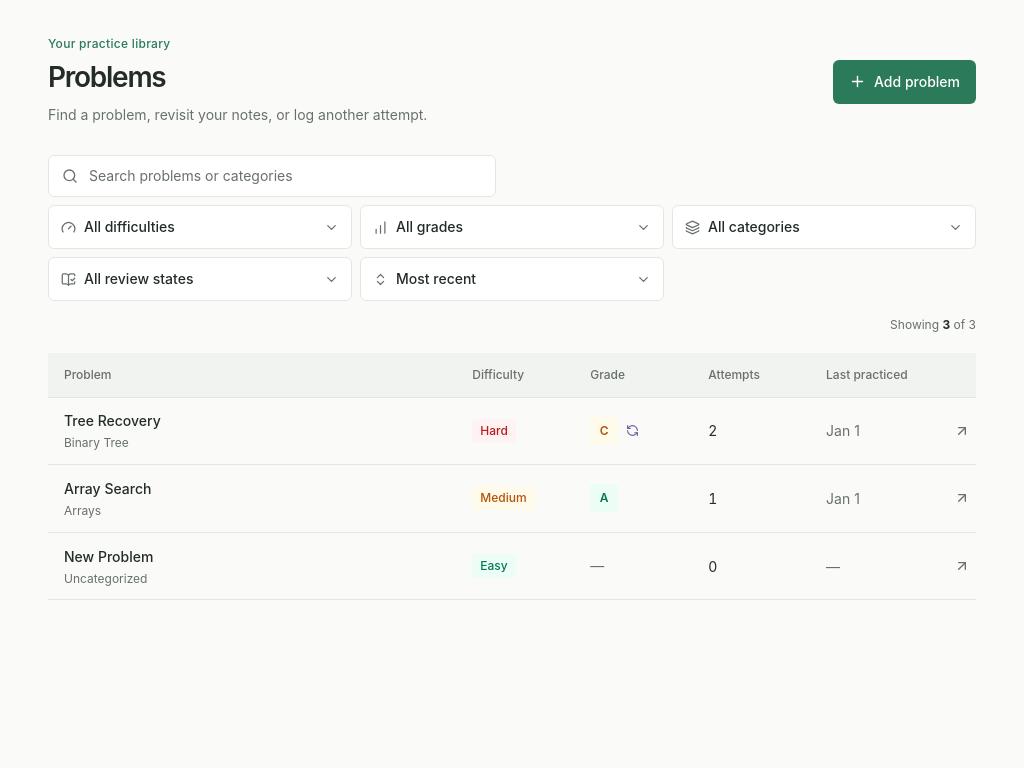
ProblemsView filters › shows only problems whose latest attempt needs review
Click the button "All review states" at {"x": 139, "y": 278}, box x1=48 y1=257 x2=352 y2=301
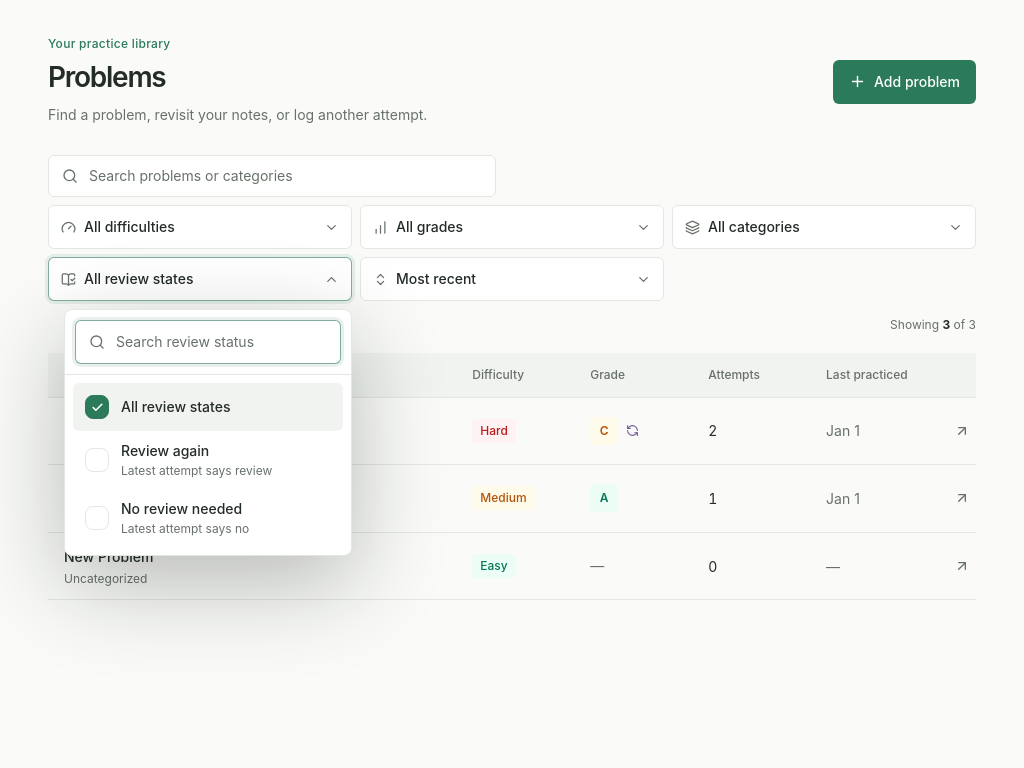
Type "Review again" into the dropdown named "Search review status options" at {"x": 208, "y": 342}, box x1=75 y1=320 x2=341 y2=364
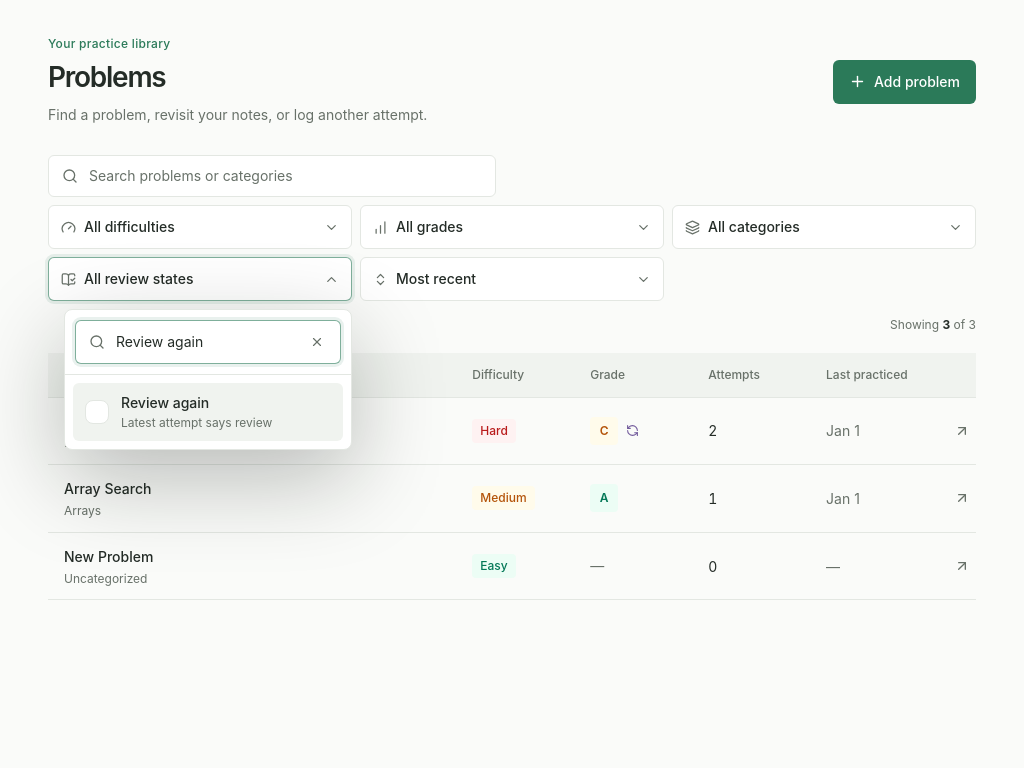
Click the option "Review again Latest attempt says review" at {"x": 208, "y": 412}, box x1=73 y1=383 x2=343 y2=441
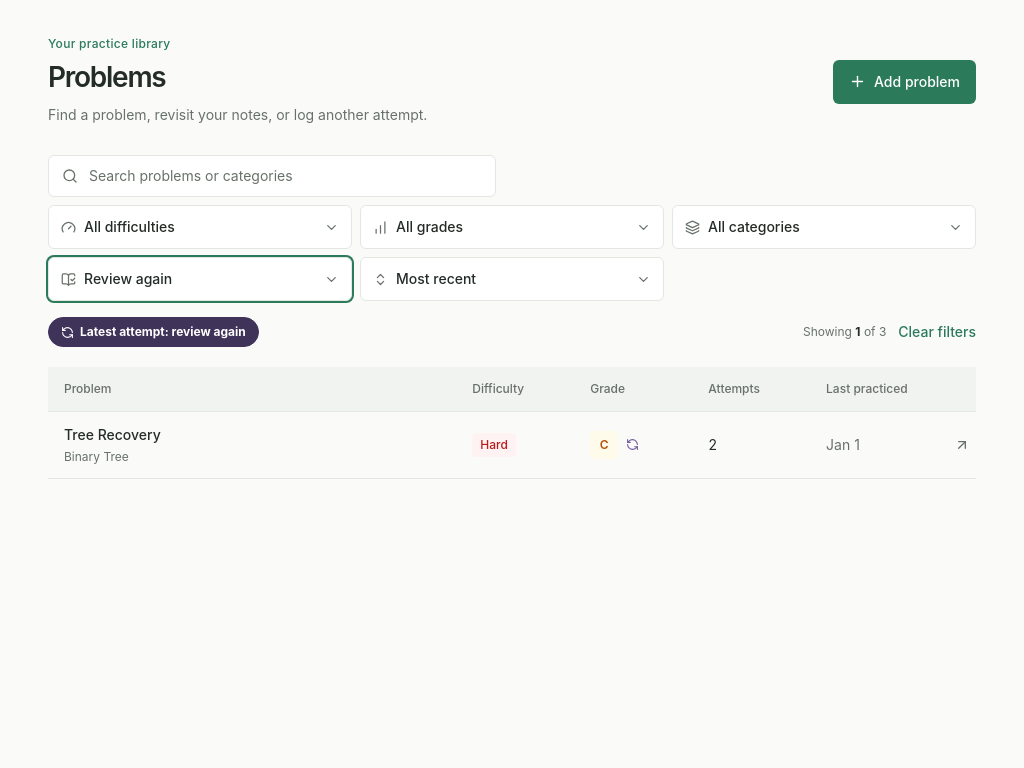
Expected: the button "Array Search" is gone
Expected: the button "New Problem" is gone
Expected: the text "Latest attempt: review again" is shown, x1=48 y1=317 x2=259 y2=347
